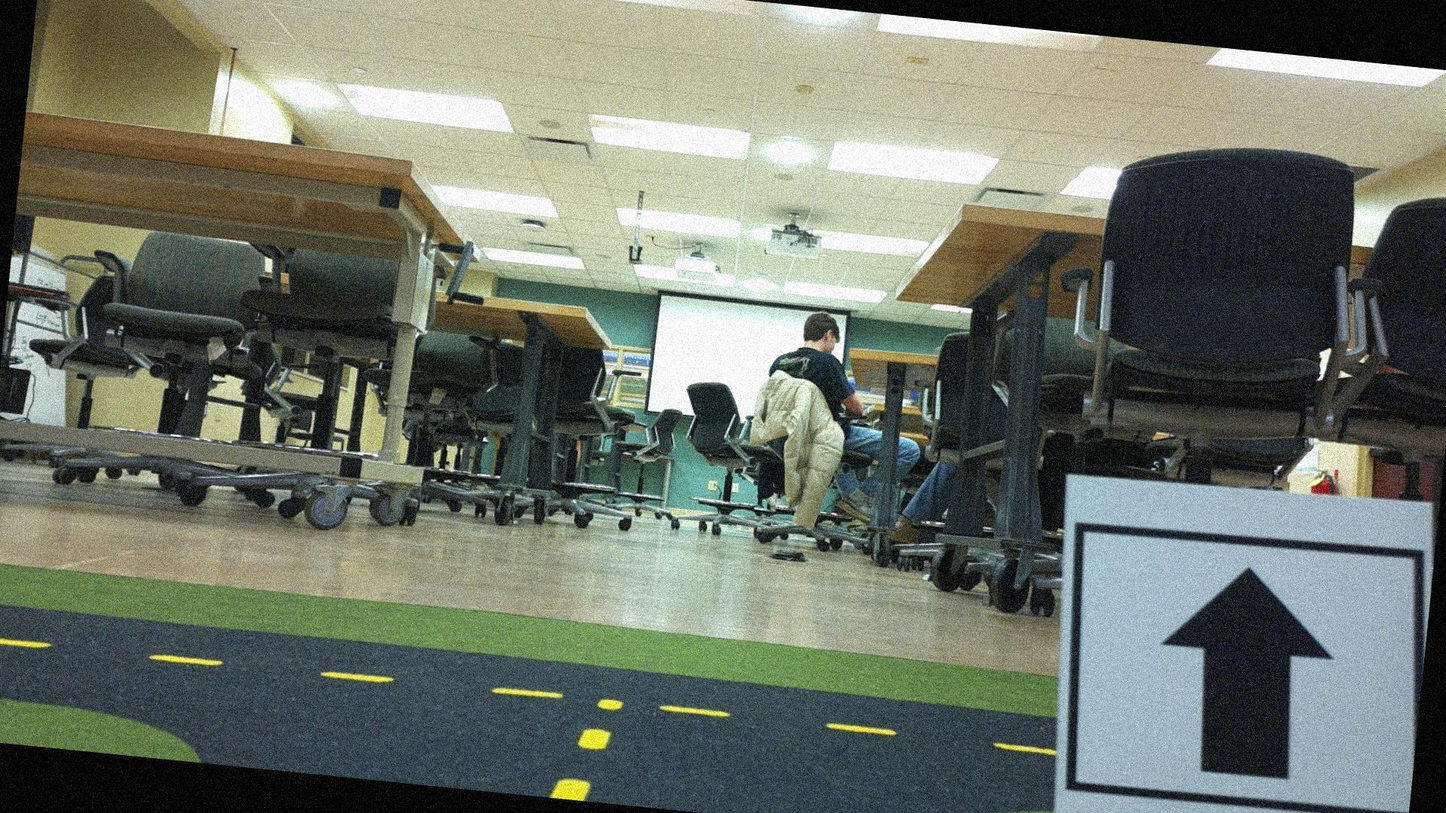gostraight: (1054, 480, 1436, 812)
yellowline: (0, 631, 1059, 757), (551, 687, 621, 803)
